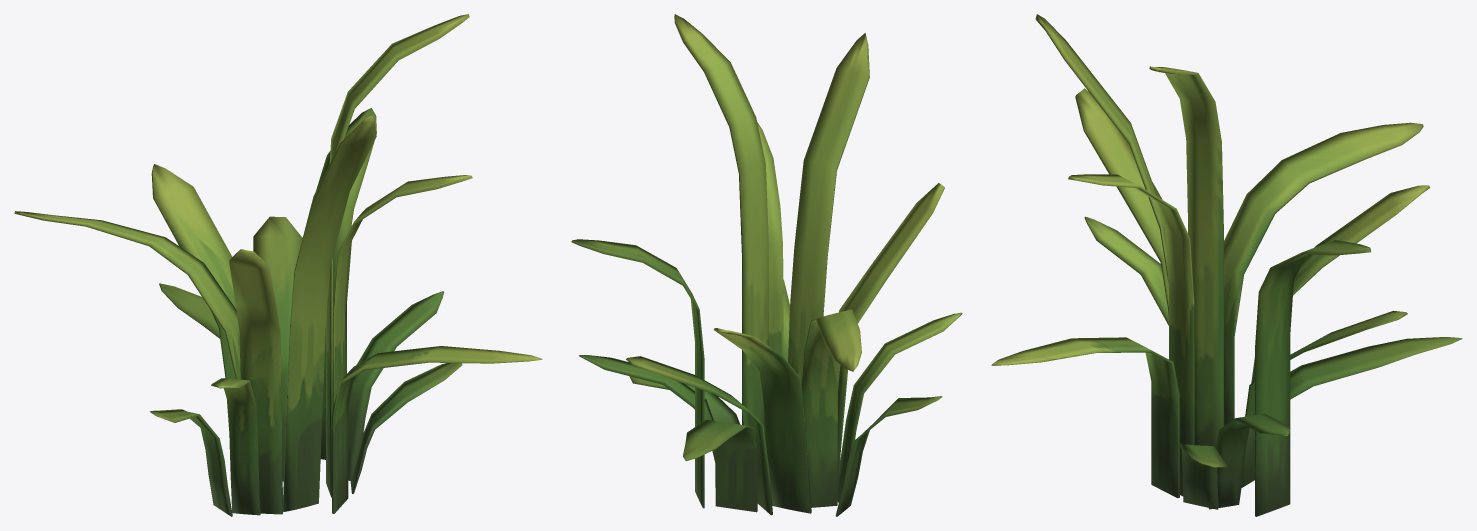
Rendered from grass_2(M).fbx.
The picture shows the model from 3 angles, left to right: view 1: azimuth 30°, elevation 25°; view 2: azimuth 150°, elevation 25°; view 3: azimuth 270°, elevation 25°; orthographic projection. The views are drawn at different scales.
Visible parts, largest first — view 1: grass.025; view 2: grass.025; view 3: grass.025.
Part boxes in pixels (bbox=[...]): grass.025: bbox=[14, 14, 542, 516]; grass.025: bbox=[571, 14, 962, 516]; grass.025: bbox=[991, 14, 1462, 516].
Size of the model in its own units: 33.03 by 40.54 by 35.5.
